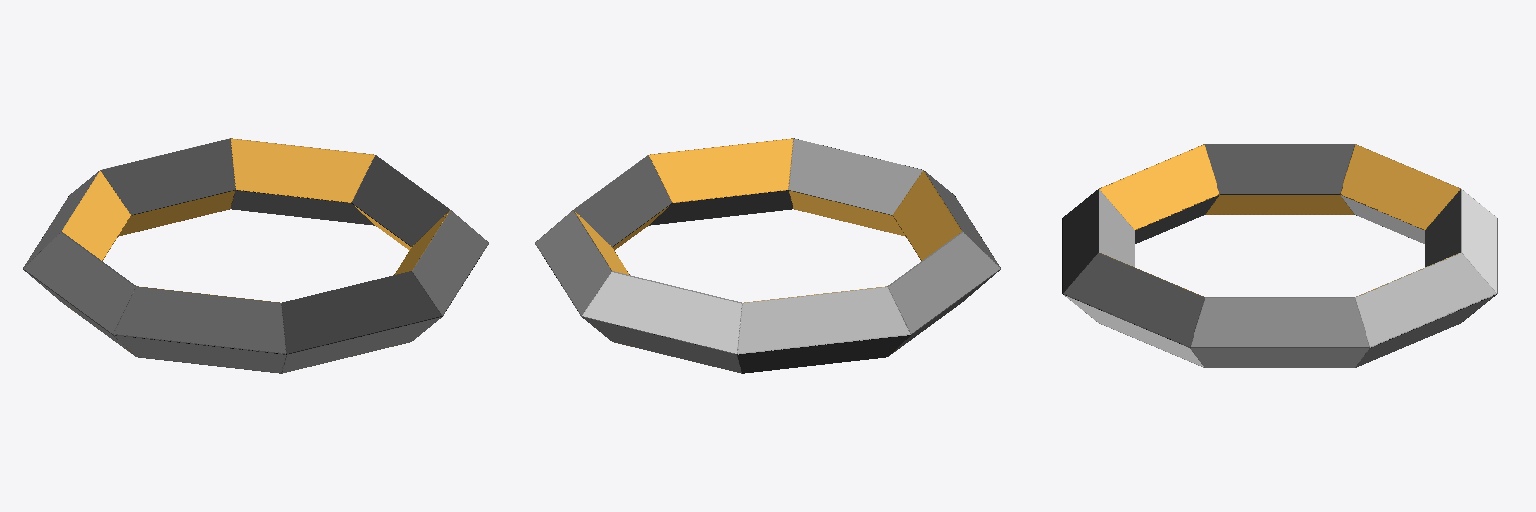
3 views of the same model, side by side, from view 1: azimuth 30°, elevation 25°; view 2: azimuth 150°, elevation 25°; view 3: azimuth 270°, elevation 25° (orthographic).
Parts seen in each view (by area): view 1: Torus; view 2: Torus; view 3: Torus.
Part boxes in pixels (bbox=[...]): Torus: bbox=[23, 138, 488, 373]; Torus: bbox=[535, 138, 1000, 373]; Torus: bbox=[1062, 144, 1497, 367].
Bounding box in the file's own units: 111 × 20 × 111.
1 materials, 1 textured.